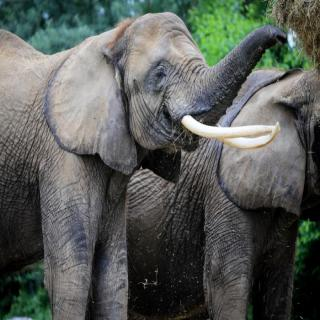Elephant: (0, 14, 293, 309)
